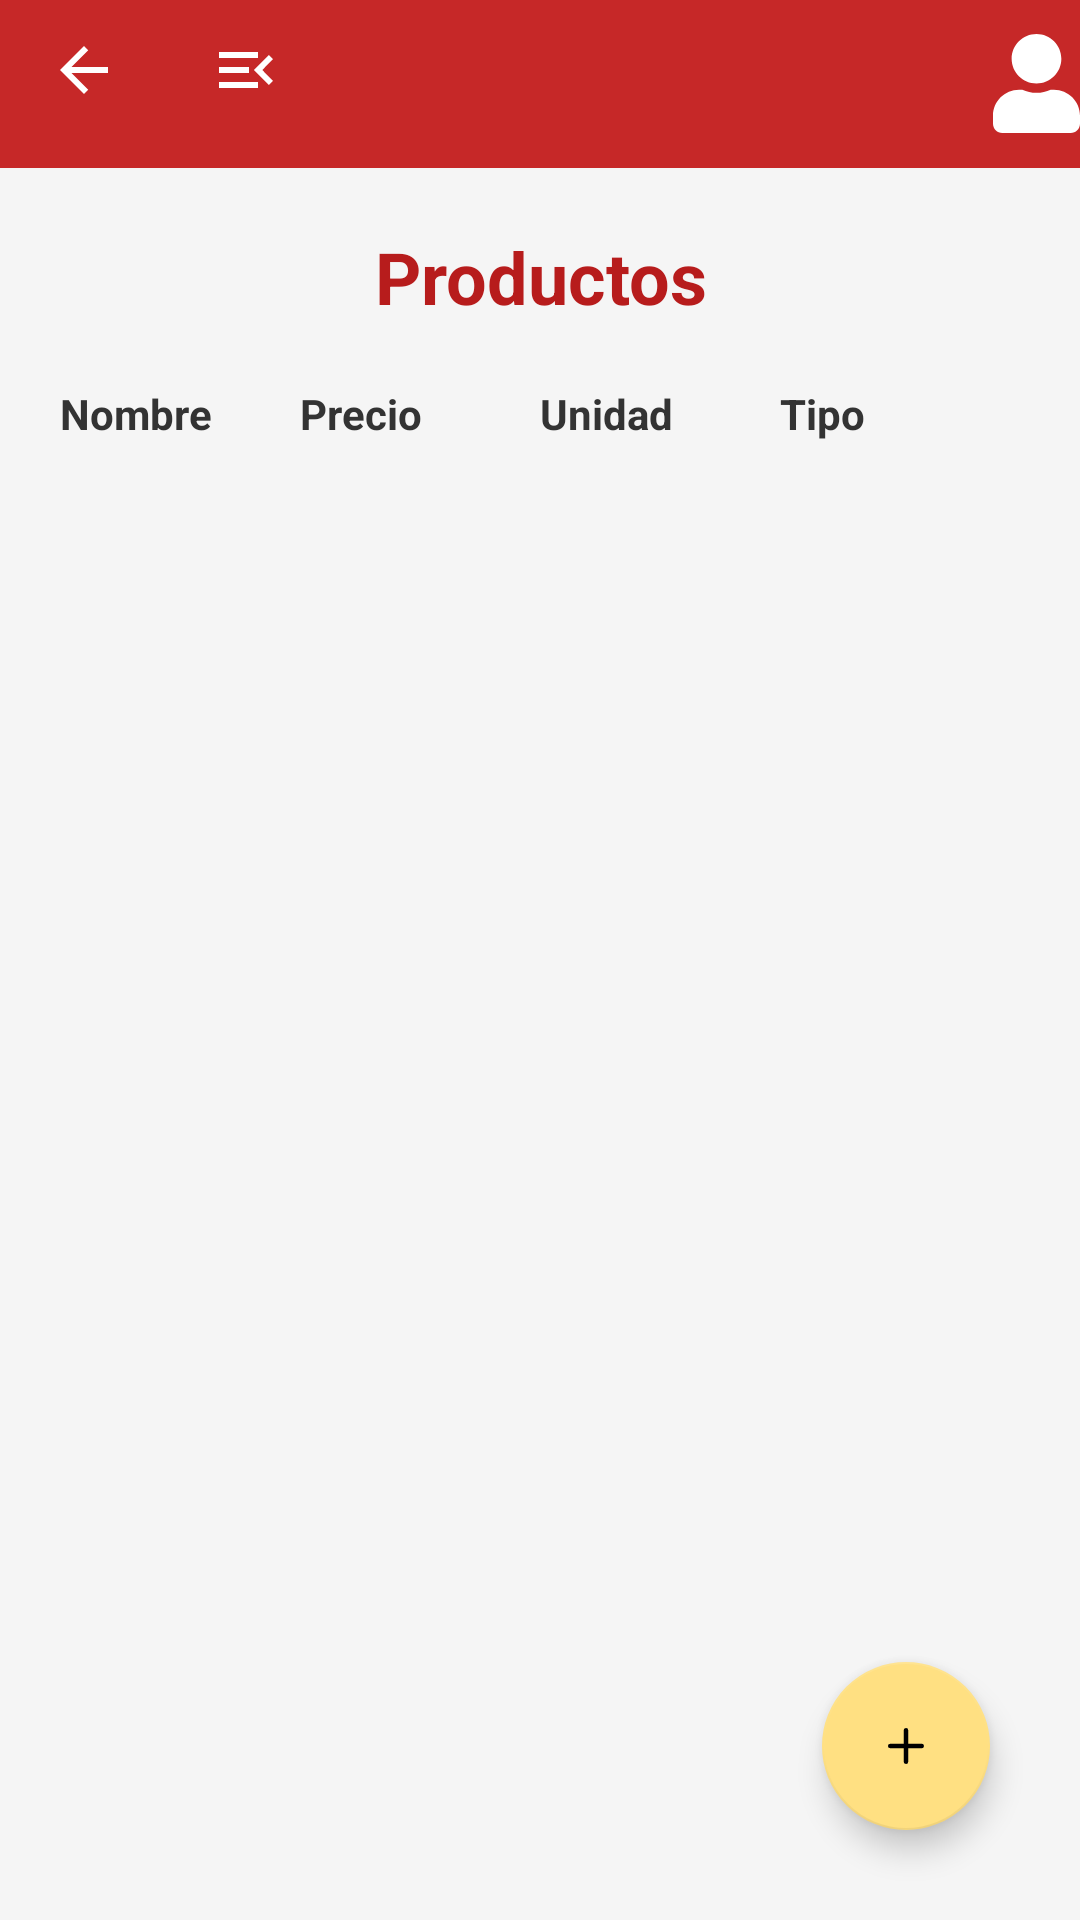

Icons on this 1080 × 1920 Android screen, each with the point to tap as [x,y]:
arrow back: [84,70]
open: [246,70]
plus: [906,1746]
user: [1036,83]
